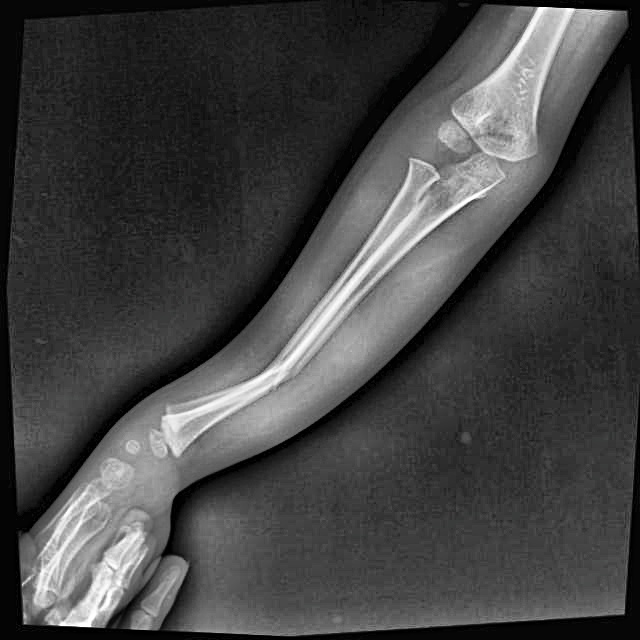Spiral: (260, 332, 313, 403)
